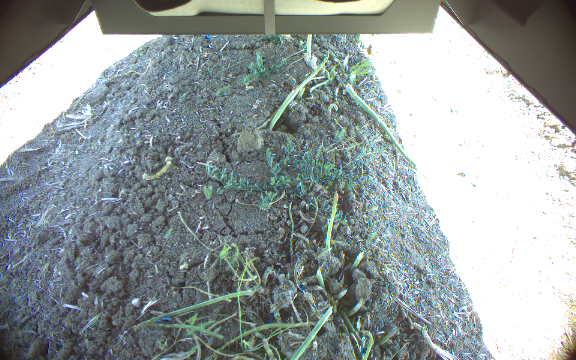aspa: (286, 305, 333, 360), (323, 190, 340, 252), (304, 34, 315, 62)
